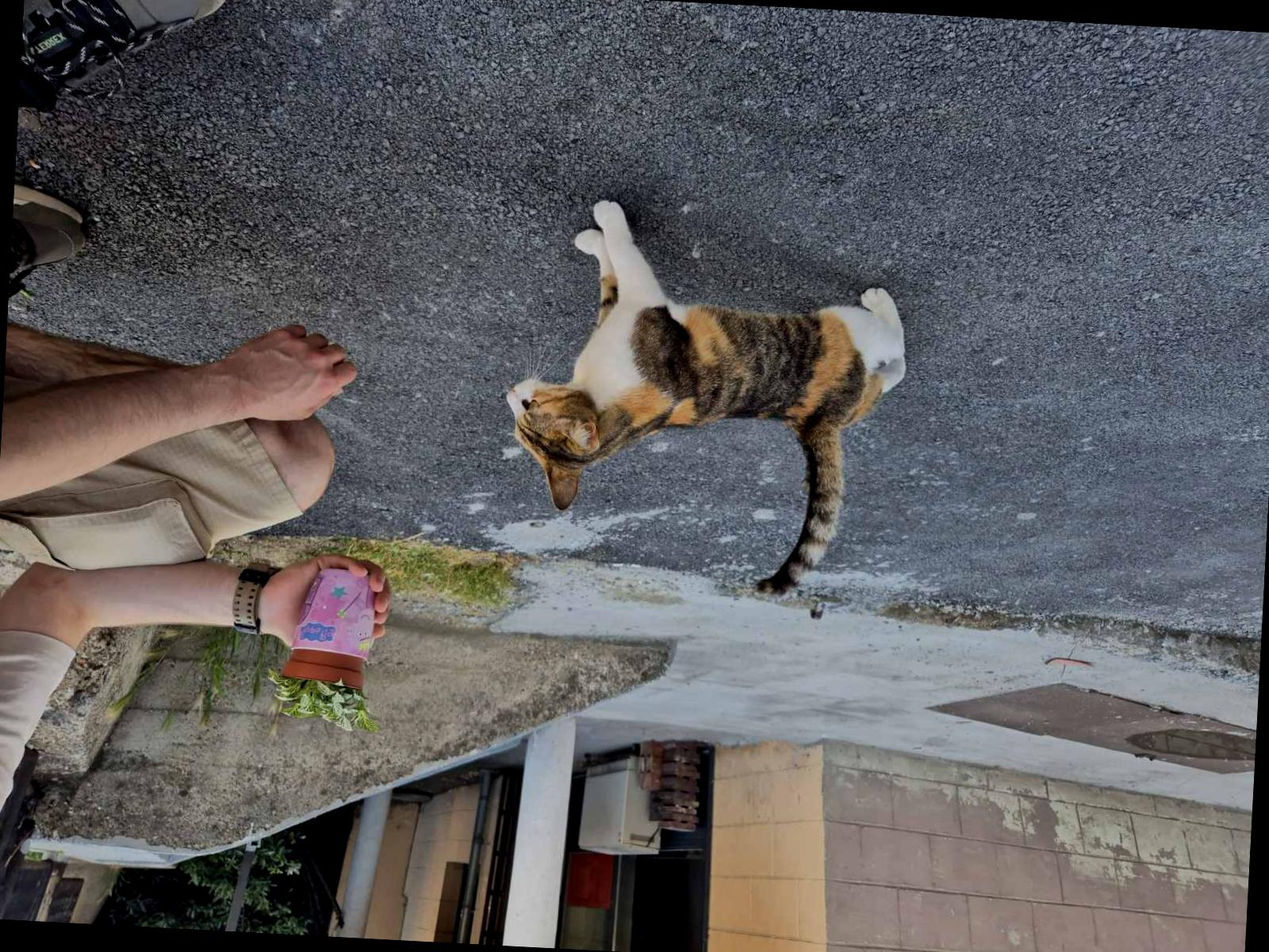macka: (496, 192, 913, 605)
